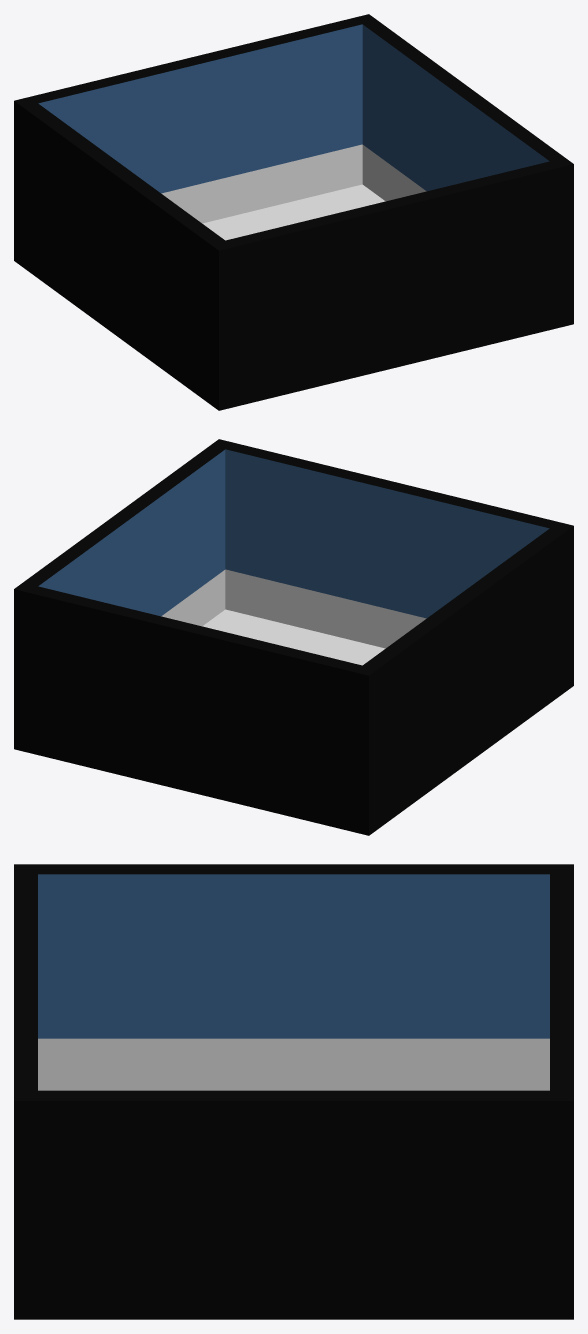
File: theme01_bg.fbx
3 renders of one model, top to bottom at view 1: azimuth 30°, elevation 25°; view 2: azimuth 150°, elevation 25°; view 3: azimuth 270°, elevation 25°, orthographic. The views are drawn at different scales.
Visible parts, largest first — view 1: theme02_wallandfloor_01.003; view 2: theme02_wallandfloor_01.003; view 3: theme02_wallandfloor_01.003.
Part boxes in pixels (x1,y1,x2,y2): theme02_wallandfloor_01.003: [14, 14, 573, 410]; theme02_wallandfloor_01.003: [14, 439, 573, 835]; theme02_wallandfloor_01.003: [14, 864, 573, 1319].
Size of the model in its own units: 1160 by 500 by 1160.
